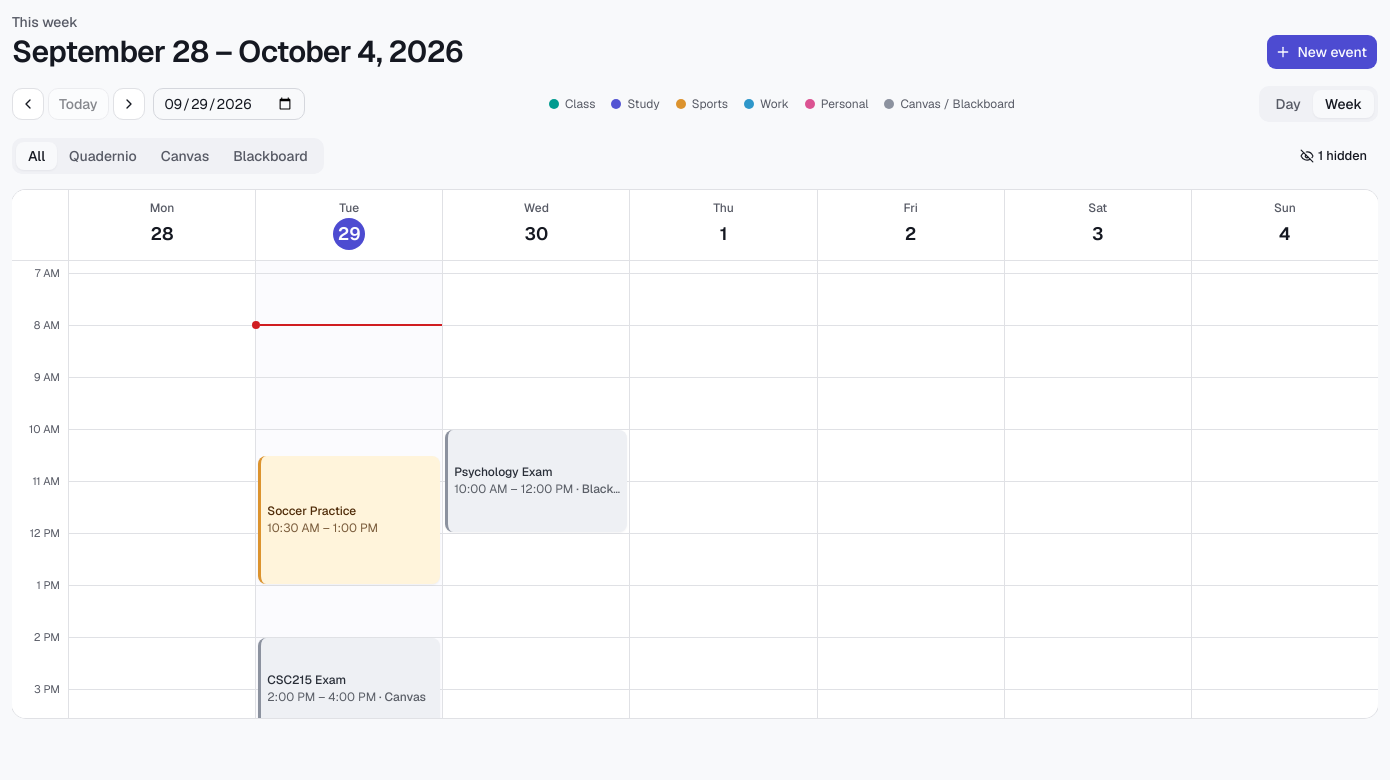
Test: Calendar with external events › the Day view shows only that day's events, from every source
(page scrolled)
Step 1. Click the button "day" → (1288, 104), box left=1264, top=90, right=1313, bottom=118
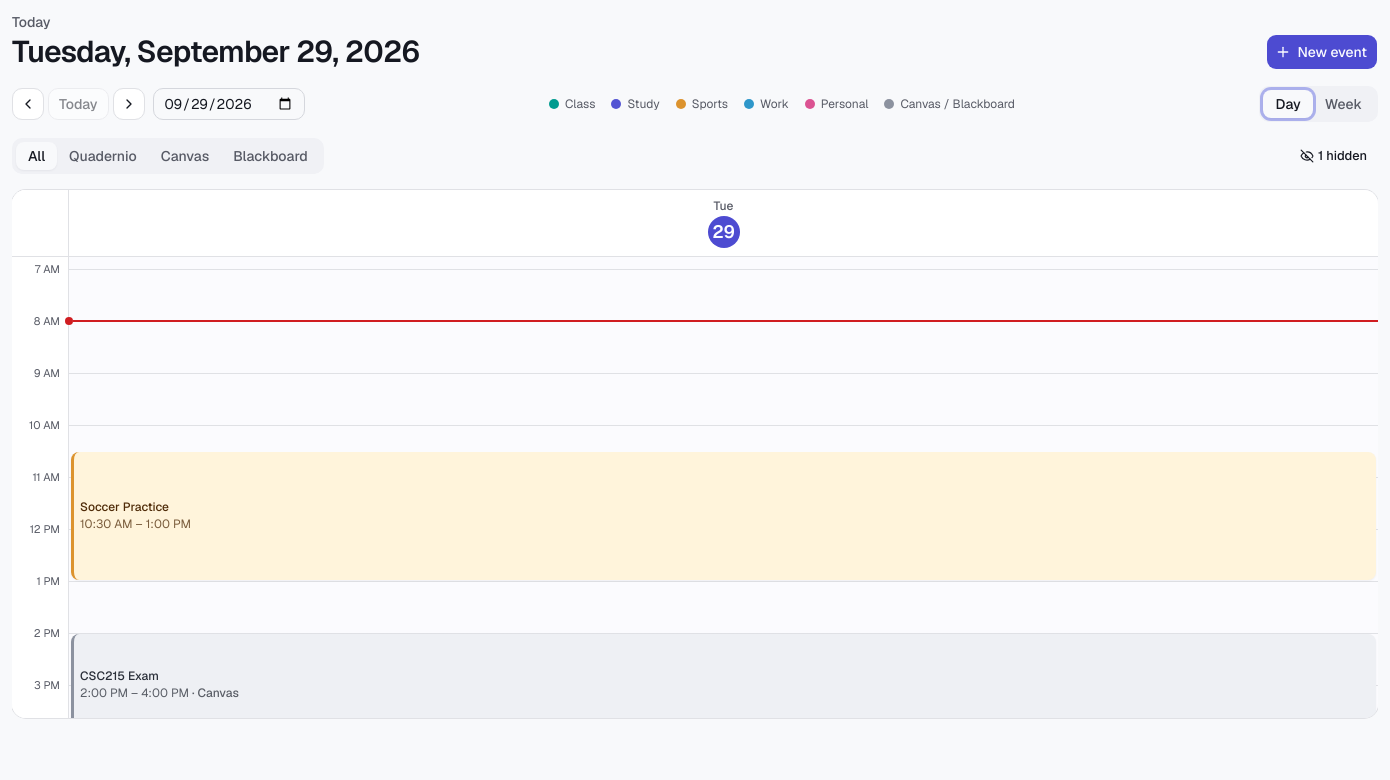
Check: the button "Soccer Practice 10:30 AM – 1:00 PM" is shown, box left=71, top=452, right=1376, bottom=580
Check: the button "Psychology Exam" is gone
